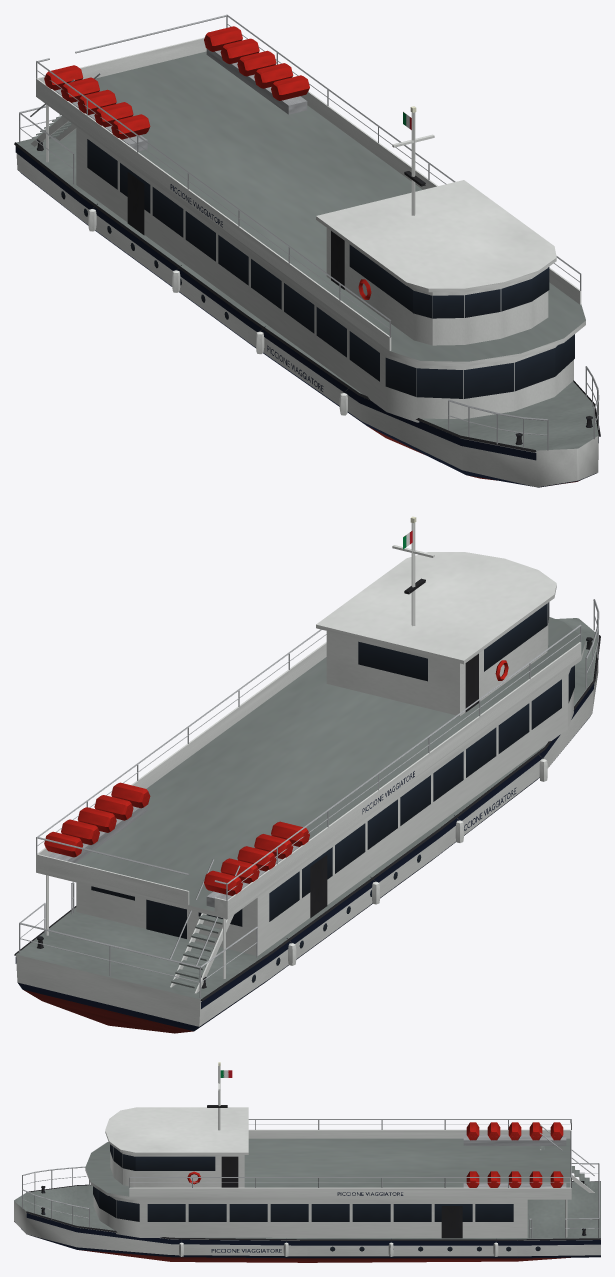
Rendered from SM_Morin_Traghetto_v2_LOD1.fbx.
3 renders of one model, top to bottom at view 1: azimuth 30°, elevation 25°; view 2: azimuth 150°, elevation 25°; view 3: azimuth 270°, elevation 25°, orthographic. The views are drawn at different scales.
Parts seen in each view (by area): view 1: SM_Morin_Traghetto_v2_LOD1; view 2: SM_Morin_Traghetto_v2_LOD1; view 3: SM_Morin_Traghetto_v2_LOD1.
Part boxes in pixels (box(x1,y1,x2,y2)): SM_Morin_Traghetto_v2_LOD1: box(14, 14, 600, 487); SM_Morin_Traghetto_v2_LOD1: box(14, 516, 600, 1033); SM_Morin_Traghetto_v2_LOD1: box(14, 1062, 600, 1262).
Bounding box in the file's own units: 713 × 2800 × 1012.
1 material, 1 textured.
